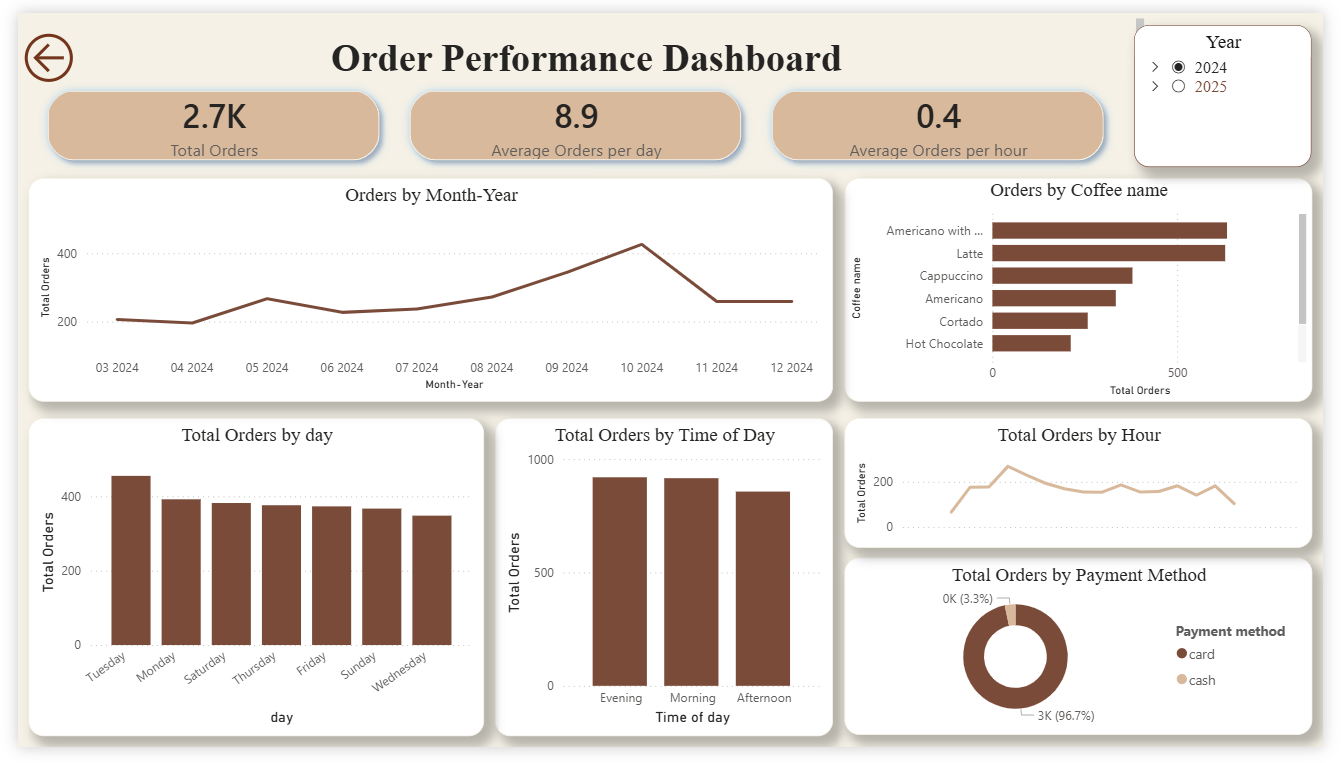

The page's visual inventory and layout, read from the dashboard file:
{"tool":"powerbi","page":{"name":"Order","canvas":[1280,720],"ordinal":1},"visuals":[{"type":"columnChart","title":"Total Orders by Time of Day","fields":{"Category":["coffee_sales_clean.time_of_day"],"Y":["coffee_sales_clean.Total Orders"]},"box":[467.9,396.7,331.6,311.9],"z":0},{"type":"columnChart","fields":{"Y":["coffee_sales_clean.Total Orders"],"Category":["coffee_sales_clean.day"]},"box":[10.6,396.7,446.7,311.9],"z":1000},{"type":"donutChart","title":"Total Orders by Payment Method","fields":{"Category":["coffee_sales_clean.payment_method"],"Y":["coffee_sales_clean.Total Orders"]},"box":[810.1,534.5,458.8,174.1],"z":2000},{"type":"cardVisual","fields":{"Data":["coffee_sales_clean.Total Orders","coffee_sales_clean.Average Orders per day","coffee_sales_clean.Average Orders per hour"]},"box":[0,47.5,1094.4,126.6],"z":2500},{"type":"barChart","title":"Orders by Coffee name","fields":{"Category":["coffee_sales_clean.coffee_name"],"Y":["coffee_sales_clean.Total Orders"]},"box":[810.1,162,458.8,219.6],"z":3000},{"type":"lineChart","title":"Total Orders by Hour","fields":{"Category":["coffee_sales_clean.hour"],"Y":["coffee_sales_clean.Total Orders"]},"box":[810.1,396.7,458.8,127.2],"z":4000},{"type":"lineChart","title":"Orders by Month-Year","fields":{"Category":["coffee_sales_clean.Month-Year"],"Y":["coffee_sales_clean.Total Orders"]},"box":[10.6,162,788.9,219.6],"z":6000},{"type":"textbox","box":[15,0,1094.4,66.2],"z":7000},{"type":"listSlicer","fields":{"Values":["coffee_sales_clean.date.Variation.Date Hierarchy.Year","coffee_sales_clean.date.Variation.Date Hierarchy.Quarter","coffee_sales_clean.date.Variation.Date Hierarchy.Month","coffee_sales_clean.date.Variation.Date Hierarchy.Day"]},"box":[1094.8,12.1,174.1,139.3],"z":8000},{"type":"actionButton","box":[0,11.5,60.4,64.7],"z":9000}]}

Visuals, with their boxes in screenshot pixels (x1, y1, x2, y2), scaled from the page's 1280x720 canvas onto the 1341x763 screenshot:
"Total Orders by Time of Day" columnChart: bbox=(490, 420, 838, 751)
columnChart - coffee_sales_clean.Total Orders x coffee_sales_clean.day: bbox=(11, 420, 479, 751)
"Total Orders by Payment Method" donutChart: bbox=(849, 566, 1329, 751)
cardVisual - coffee_sales_clean.Total Orders x coffee_sales_clean.Average Orders per day: bbox=(0, 50, 1147, 184)
"Orders by Coffee name" barChart: bbox=(849, 172, 1329, 404)
"Total Orders by Hour" lineChart: bbox=(849, 420, 1329, 555)
"Orders by Month-Year" lineChart: bbox=(11, 172, 838, 404)
textbox: bbox=(16, 0, 1162, 70)
listSlicer - coffee_sales_clean.date.Variation.Date Hierarchy.Year x coffee_sales_clean.date.Variation.Date Hierarchy.Quarter: bbox=(1147, 13, 1329, 160)
actionButton: bbox=(0, 12, 63, 81)
